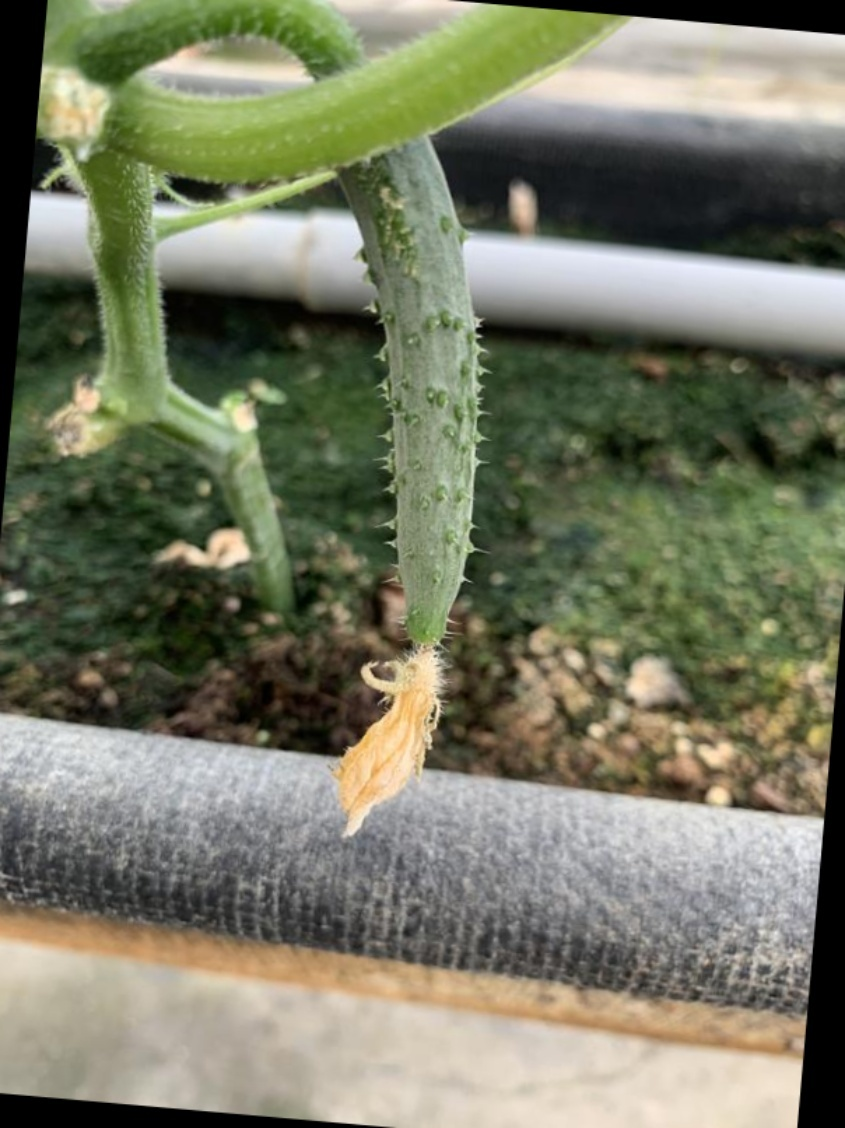bear: (295, 183, 535, 840)
